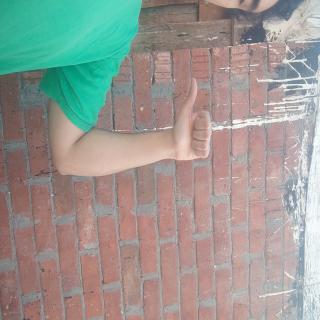DAD: (51, 138, 122, 198)
